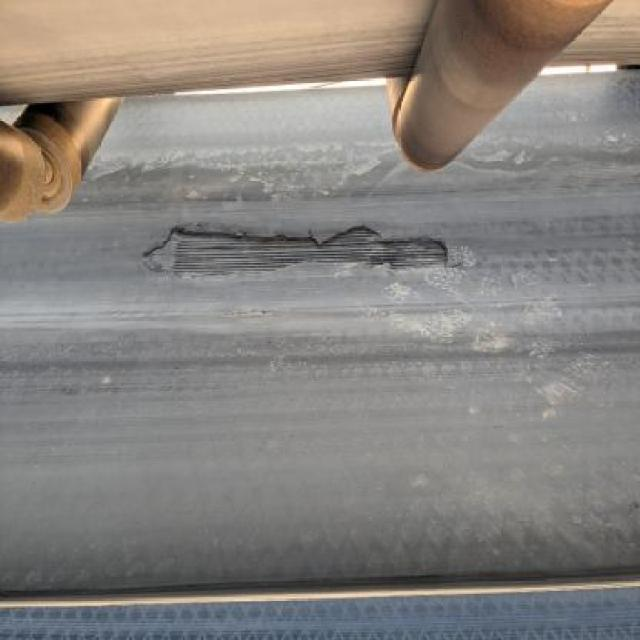Tear: (138, 220, 465, 282)
